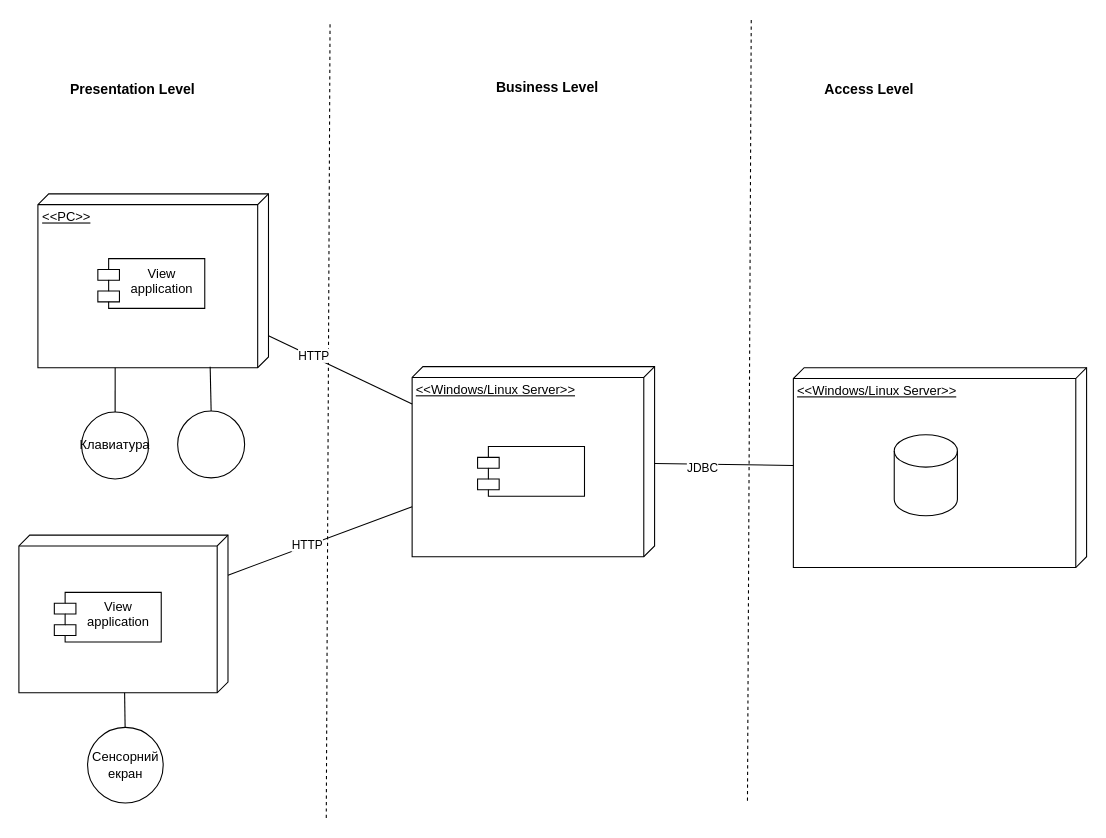
The diagram is 1106 pixels wide and 838 high, and some of its shapes have lost their labels. Each missing label, with the box of its shape:
<<Android OS/IOS>>: (18, 534, 228, 693)
Java Spring Application: (476, 446, 584, 496)
Relational database: (893, 434, 957, 516)
Миша: (177, 410, 245, 478)
